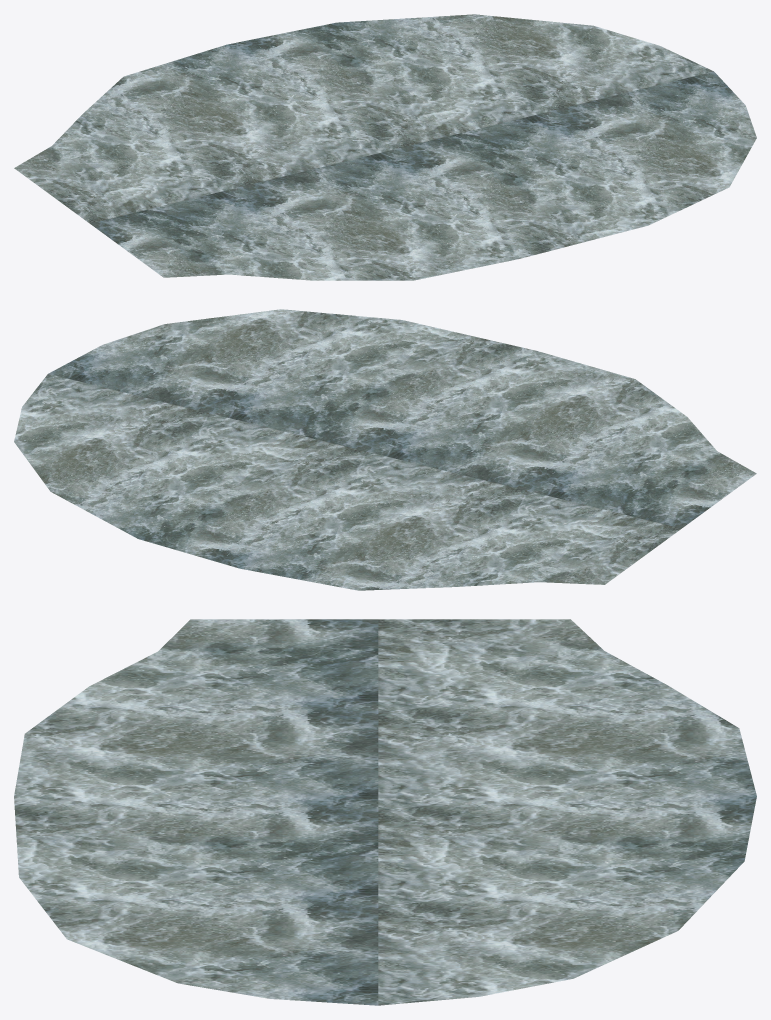
File: bg_lut_lutomb_water02_cwk.FBX
The picture shows the model from 3 angles, top to bottom: view 1: azimuth 30°, elevation 25°; view 2: azimuth 150°, elevation 25°; view 3: azimuth 270°, elevation 25°; orthographic projection. The views are drawn at different scales.
Parts seen in each view (by area): view 1: bg_lut_lutomb_water02_cwk; view 2: bg_lut_lutomb_water02_cwk; view 3: bg_lut_lutomb_water02_cwk.
Boxes of the visible parts, x1,y1,x2,y2 form: bg_lut_lutomb_water02_cwk: (14,14,756,280); bg_lut_lutomb_water02_cwk: (14,309,756,590); bg_lut_lutomb_water02_cwk: (14,619,756,1005).
Size of the model in its own units: 5303 by 2.64e-13 by 4309.
